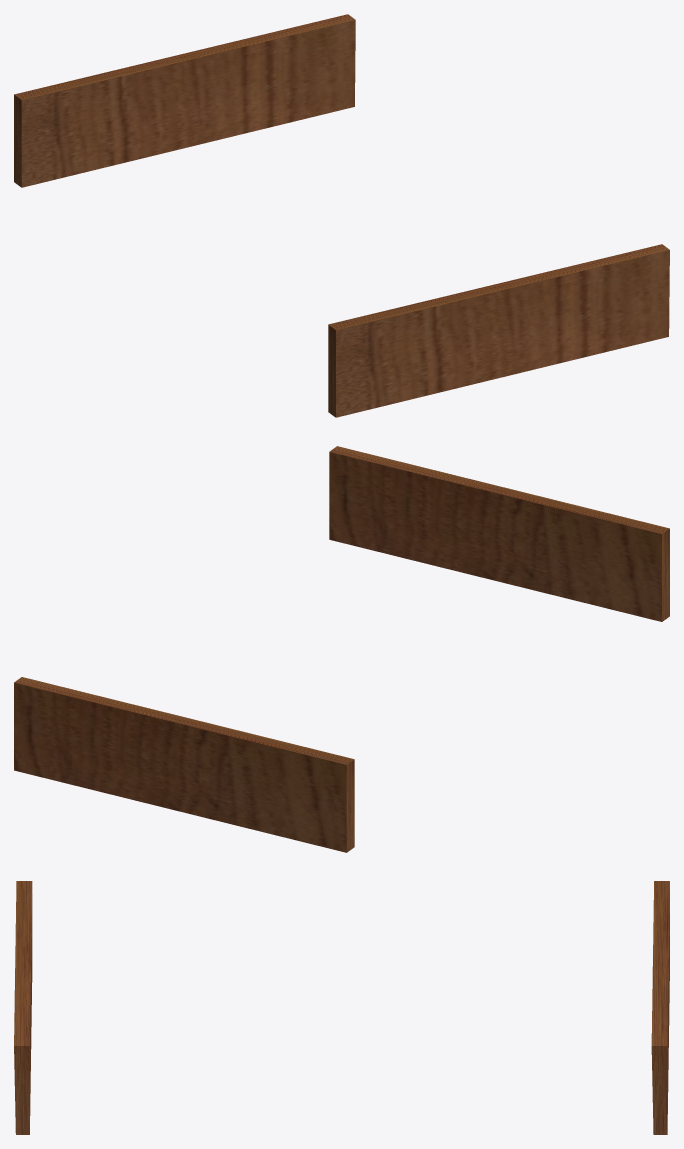
File: TablaEscritorio.obj
3 renders of one model, top to bottom at view 1: azimuth 30°, elevation 25°; view 2: azimuth 150°, elevation 25°; view 3: azimuth 270°, elevation 25°, orthographic.
Parts seen in each view (by area): view 1: TablasEscritorio; view 2: TablasEscritorio; view 3: TablasEscritorio.
Part boxes in pixels (<box>): TablasEscritorio: <box>14,14,669,417</box>; TablasEscritorio: <box>14,446,669,852</box>; TablasEscritorio: <box>14,881,669,1134</box>.
Bounding box in the file's own units: 2.71 × 0.6811 × 4.55.
